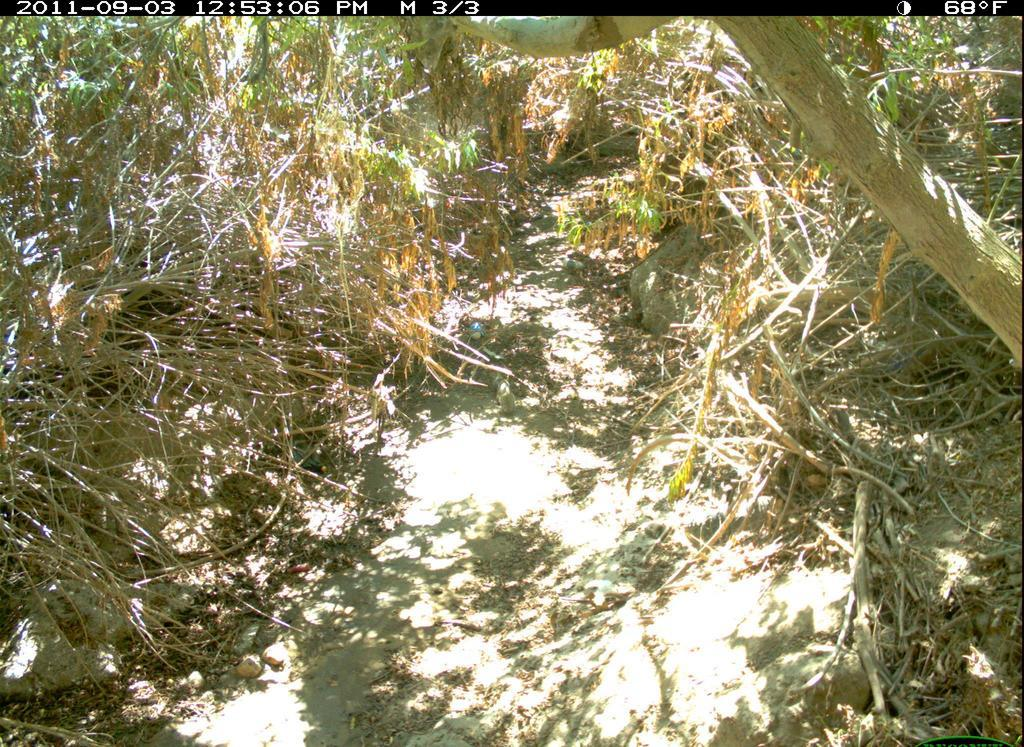squirrel: (457, 314, 502, 355)
